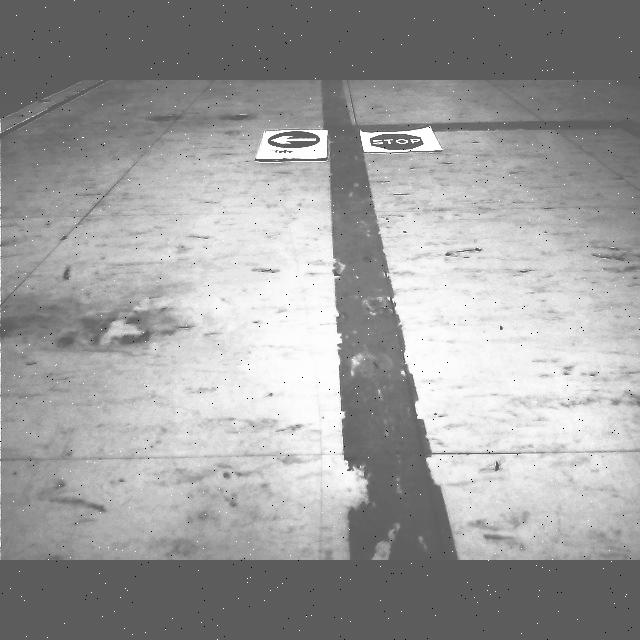STOP: (369, 133, 423, 150)
TURN LEFT: (268, 131, 319, 147)
